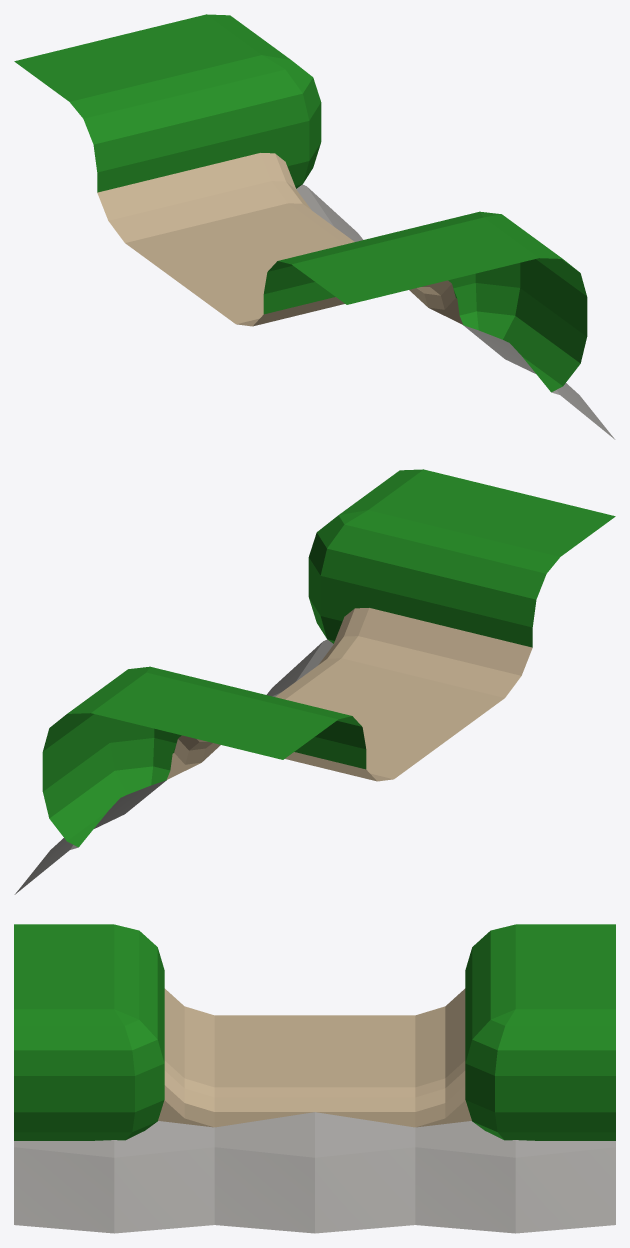
File: Track_Cliff_Edge_Standard_1_Tall_Single.obj
3 renders of one model, top to bottom at view 1: azimuth 30°, elevation 25°; view 2: azimuth 150°, elevation 25°; view 3: azimuth 270°, elevation 25°, orthographic. The views are drawn at different scales.
Visible parts, largest first — view 1: Grass, Dirt, Rock; view 2: Grass, Dirt, Rock; view 3: Grass, Rock, Dirt.
Part boxes in pixels (left/top/right/bottom): Grass: left=14, top=14, right=587, bottom=392; Dirt: left=97, top=153, right=462, bottom=326; Rock: left=296, top=184, right=615, bottom=439; Grass: left=42, top=469, right=615, bottom=847; Dirt: left=167, top=608, right=532, bottom=781; Rock: left=14, top=639, right=333, bottom=894; Grass: left=14, top=924, right=615, bottom=1140; Rock: left=14, top=1112, right=615, bottom=1233; Dirt: left=158, top=988, right=471, bottom=1127.
Bounding box in the file's own units: 1.5 × 1 × 3.
